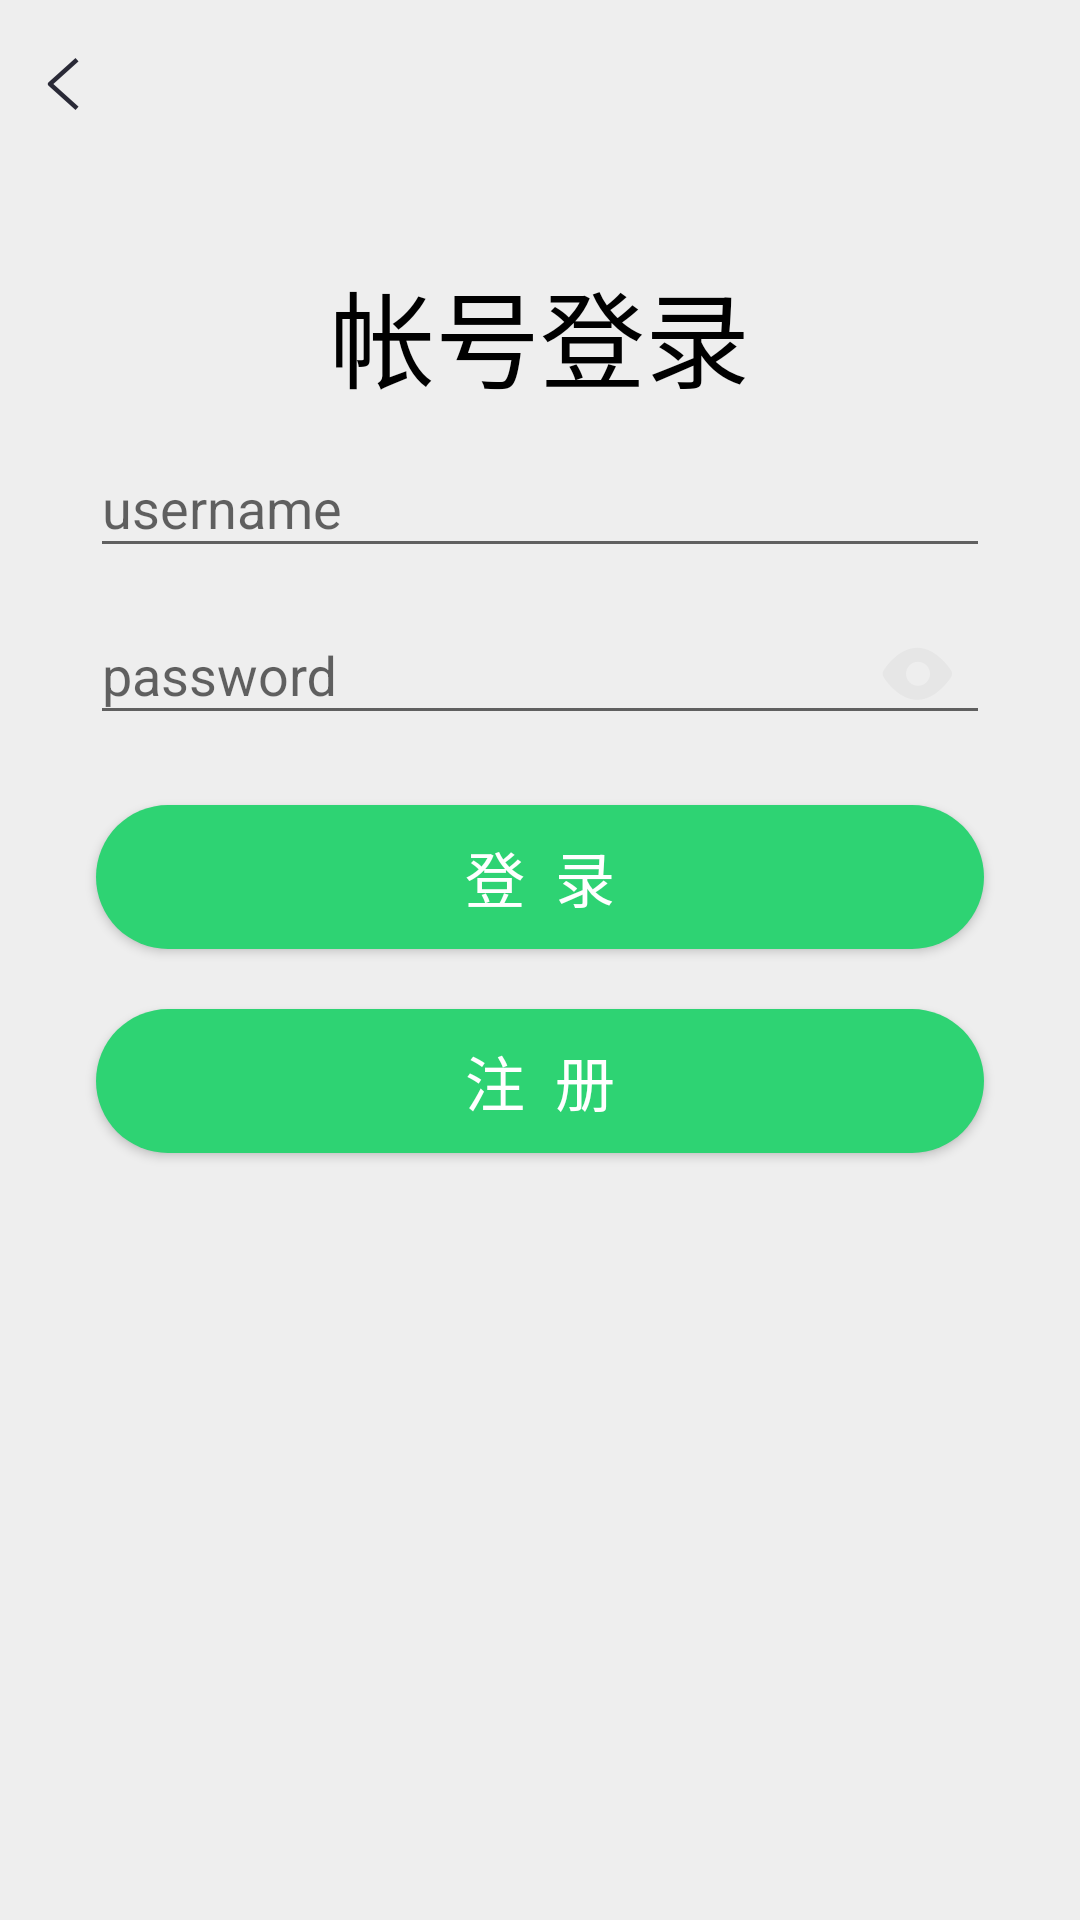

Icon click points for this 1080 x 1920 phone screenshot, format [x,y]:
back: [63,84]
